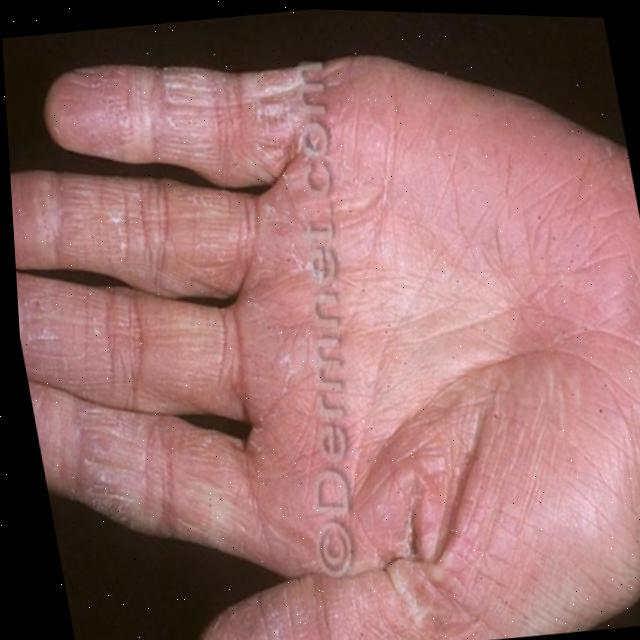Eczema: (21, 63, 288, 516)
